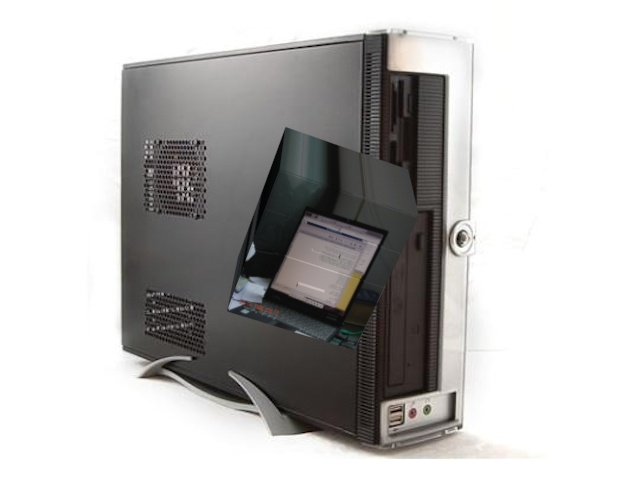file_cabinet: (224, 121, 424, 352)
